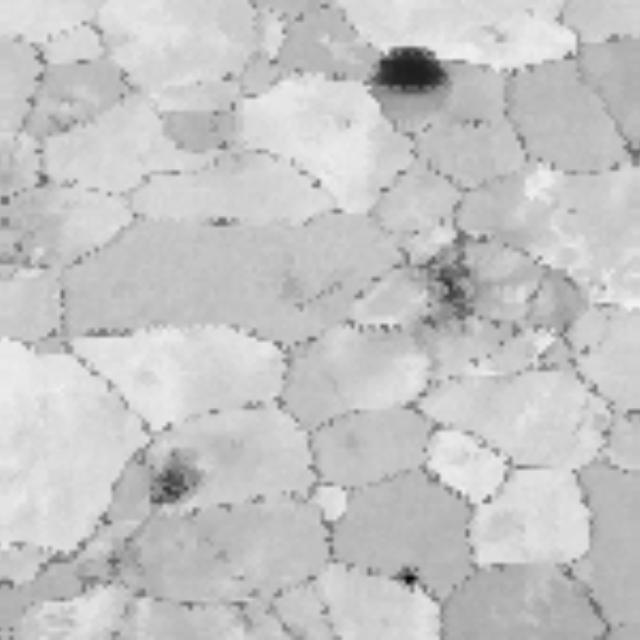good_void: (411, 220, 483, 343), (138, 448, 208, 522), (367, 42, 457, 94), (97, 527, 149, 584), (386, 548, 433, 588), (478, 17, 515, 44), (193, 215, 246, 232)
